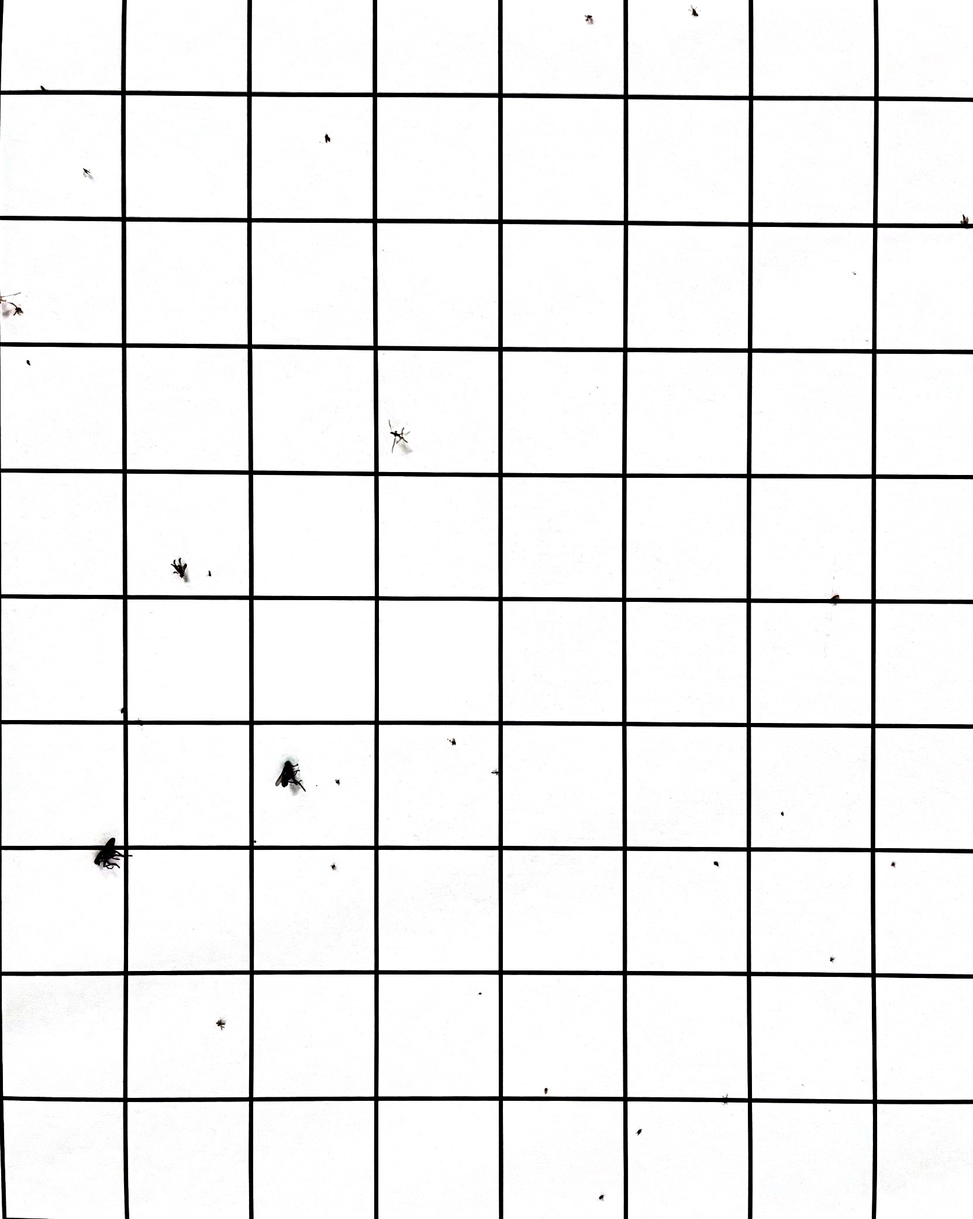fly: (91, 835, 134, 872), (272, 756, 307, 793)
test: (387, 424, 413, 452), (3, 295, 25, 317), (172, 559, 190, 580), (687, 5, 701, 19), (959, 213, 972, 228), (80, 166, 93, 179), (582, 13, 594, 25), (829, 592, 840, 605), (720, 1091, 729, 1106), (215, 1019, 227, 1030), (22, 357, 34, 368), (322, 132, 332, 145), (118, 705, 129, 716), (39, 84, 50, 95), (449, 738, 460, 748), (491, 767, 502, 777), (541, 1086, 550, 1096), (635, 1127, 643, 1138), (204, 571, 213, 580), (330, 862, 338, 872), (714, 859, 721, 870), (828, 955, 836, 964), (597, 1194, 605, 1202), (251, 837, 258, 846), (778, 810, 787, 817), (890, 862, 897, 869), (477, 991, 485, 997), (335, 778, 342, 784)
